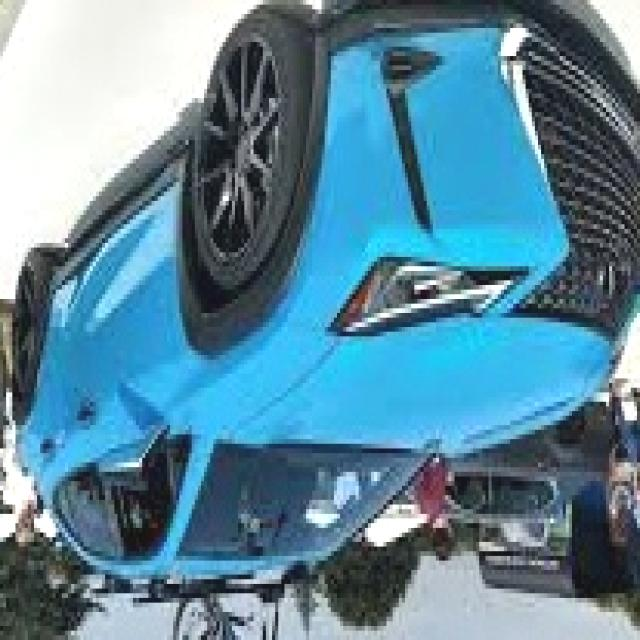blue: (12, 0, 639, 608)
